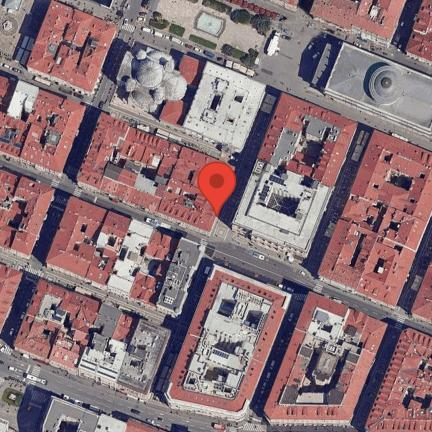area_open: (145, 0, 284, 66)
built: (233, 91, 358, 256), (317, 126, 431, 306), (44, 198, 209, 316), (108, 35, 266, 154), (166, 264, 288, 417), (79, 111, 233, 232), (14, 277, 164, 399), (265, 293, 388, 425), (323, 39, 431, 137), (0, 69, 91, 173), (28, 0, 117, 92), (366, 326, 431, 431), (40, 393, 161, 431), (312, 0, 404, 48), (407, 0, 431, 66)
